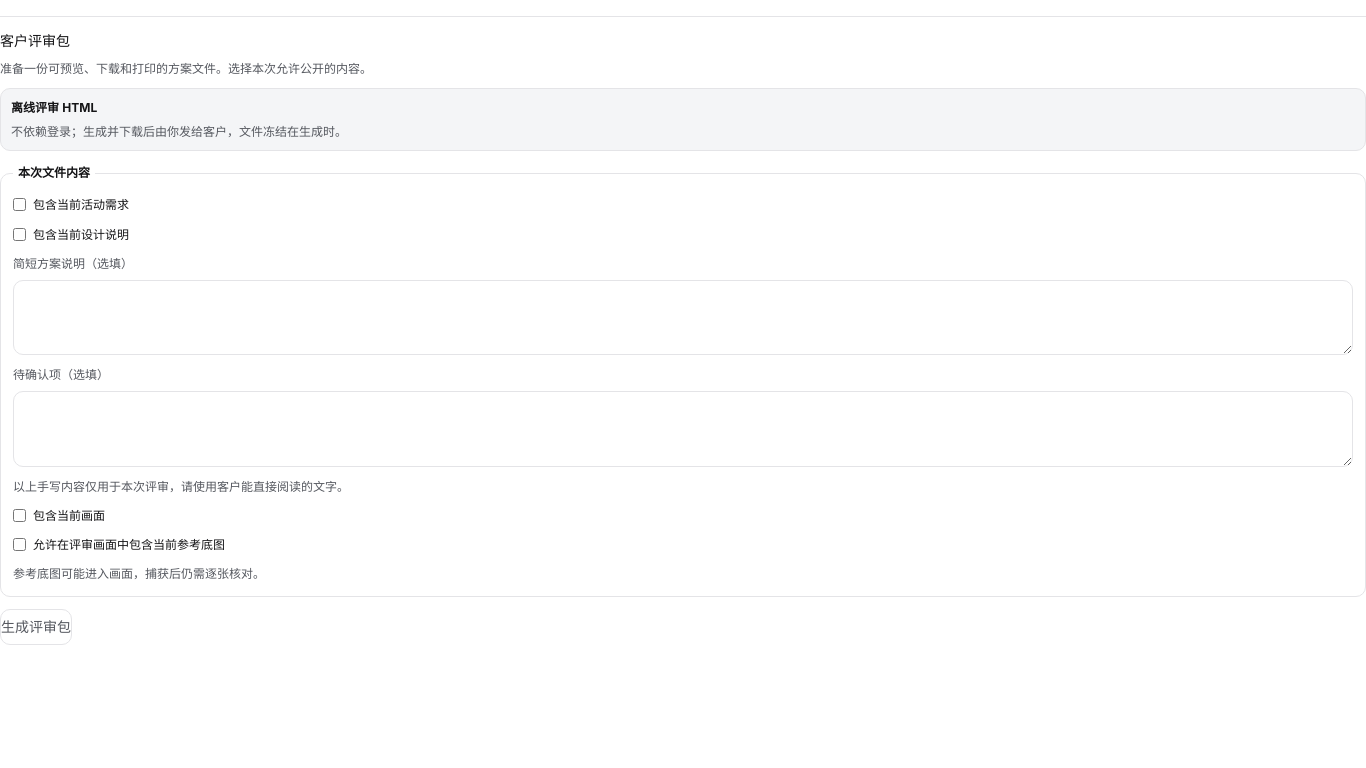
Scenario: independent customer review panel › invalidates the old file when pending changes
Click the button "生成评审包".
click(36, 627)  # box [0, 609, 72, 645]
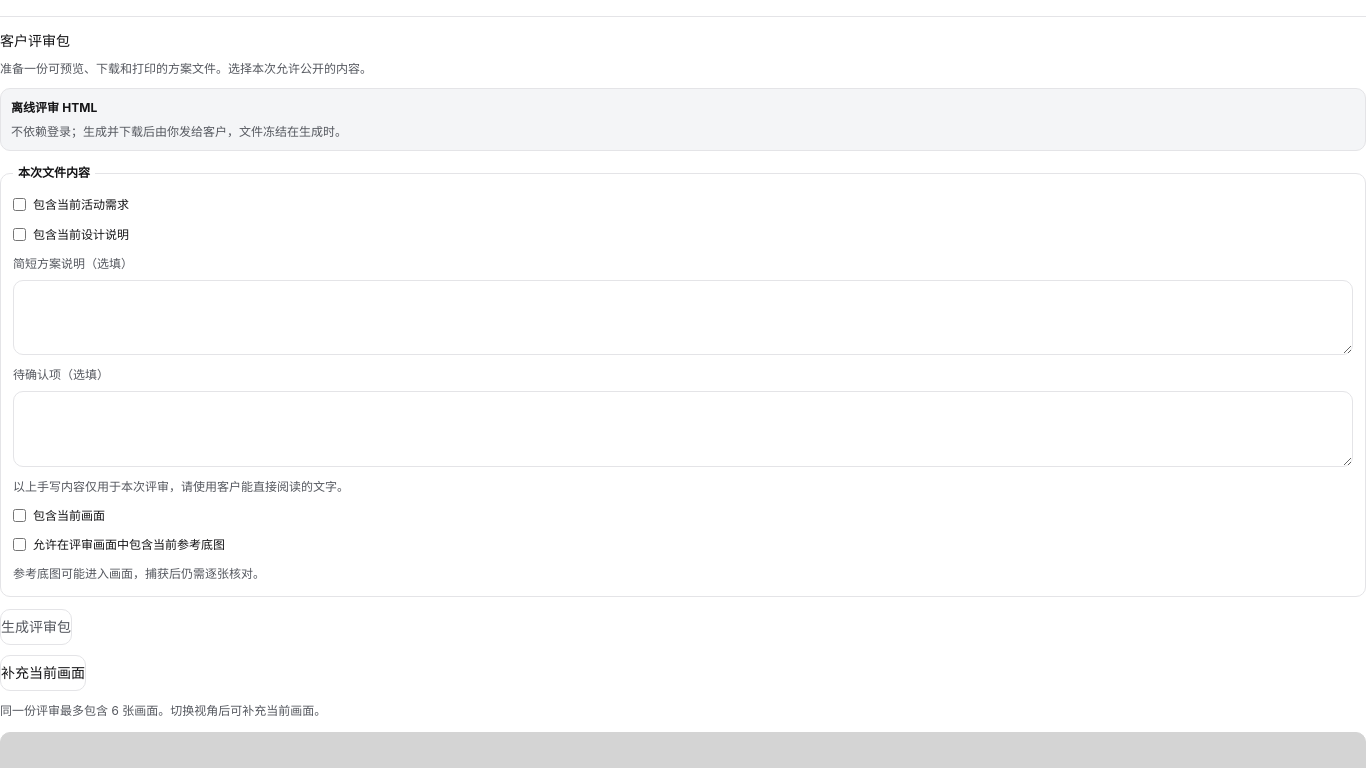
Type "新内容" into the text box labelled "待确认项（选填）".
click(683, 429); type("新内容")  # box [13, 391, 1353, 467]
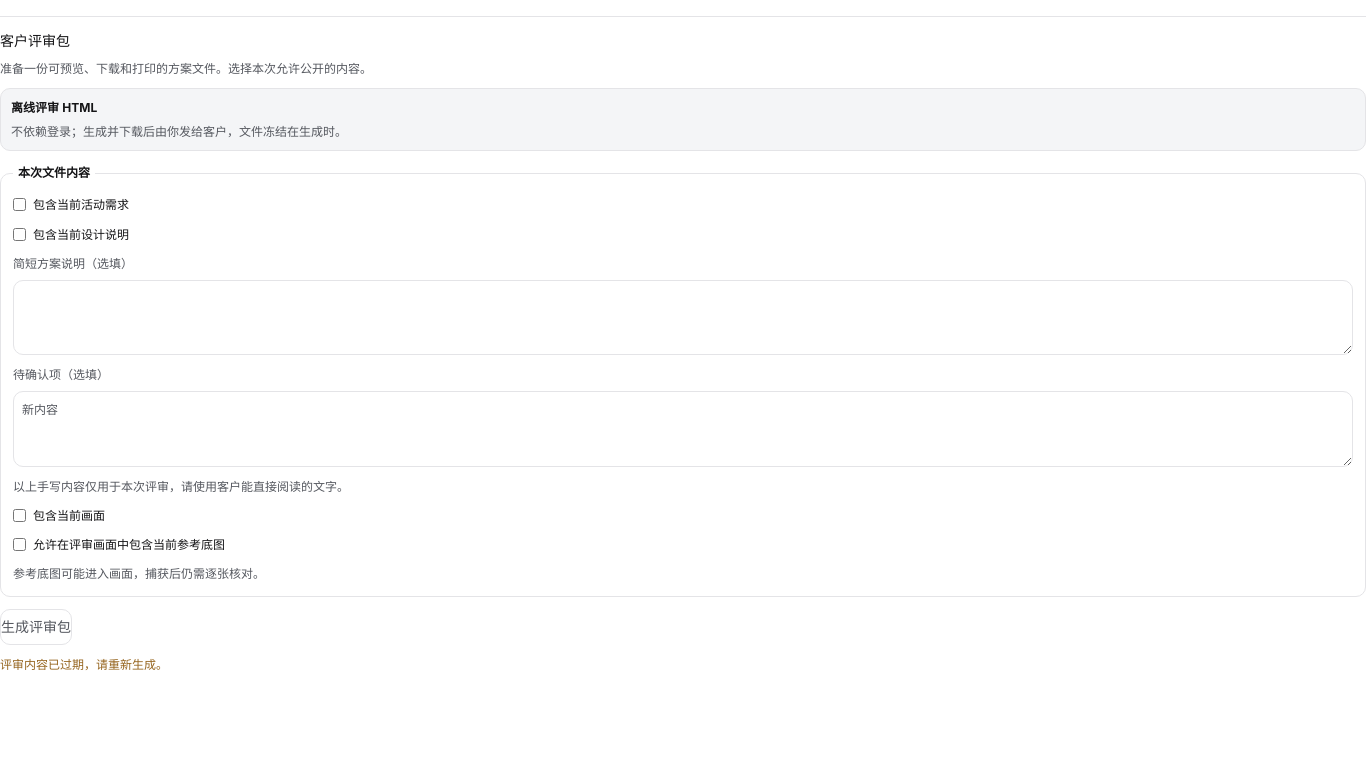
expect the text "评审内容已过期，请重新生成。" is shown: met, box [0, 657, 168, 672]
